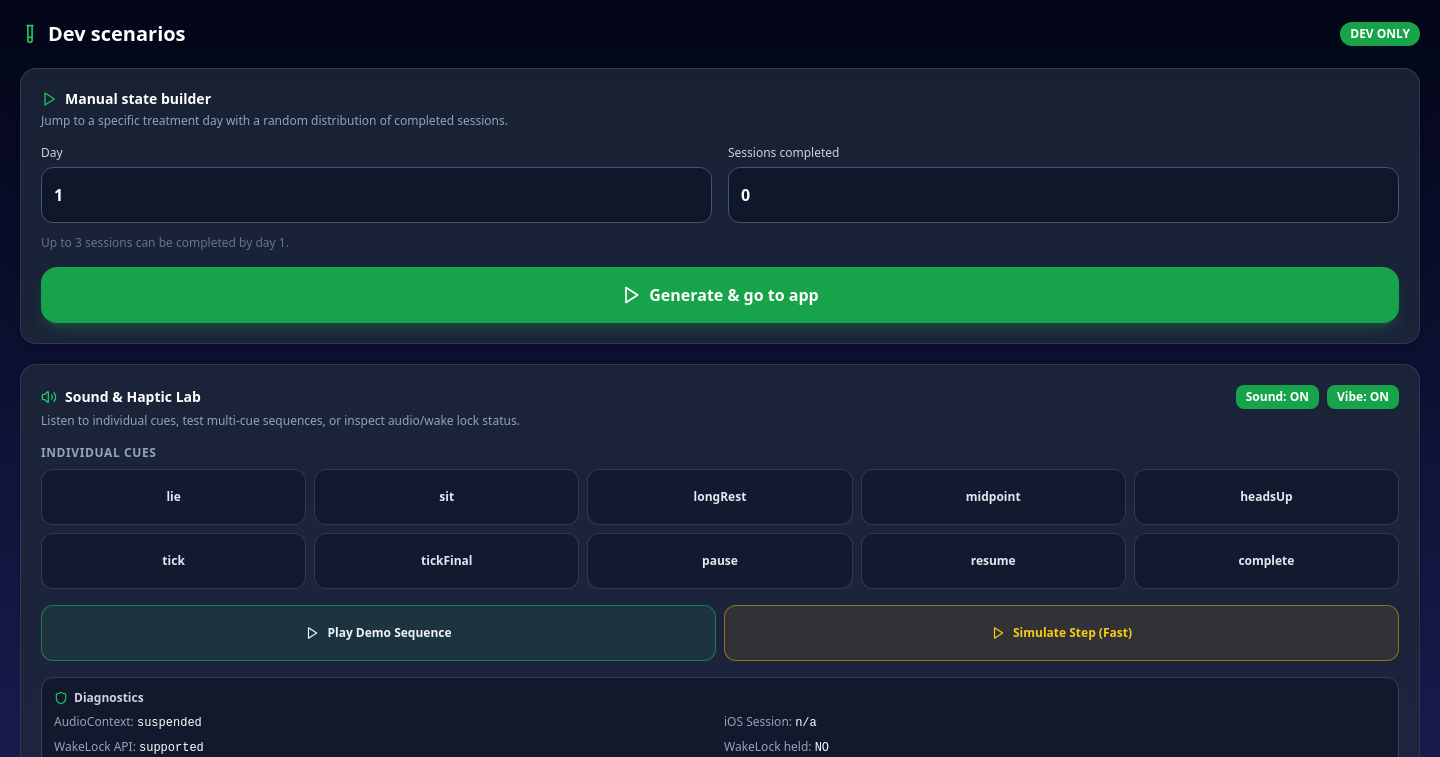
Test: DevScenariosScreen › shows error when day is out of bounds or sessions are negative
Replace the text in the number field labelled "Day" with "0" at x=376, y=195, box [41,167,712,223]
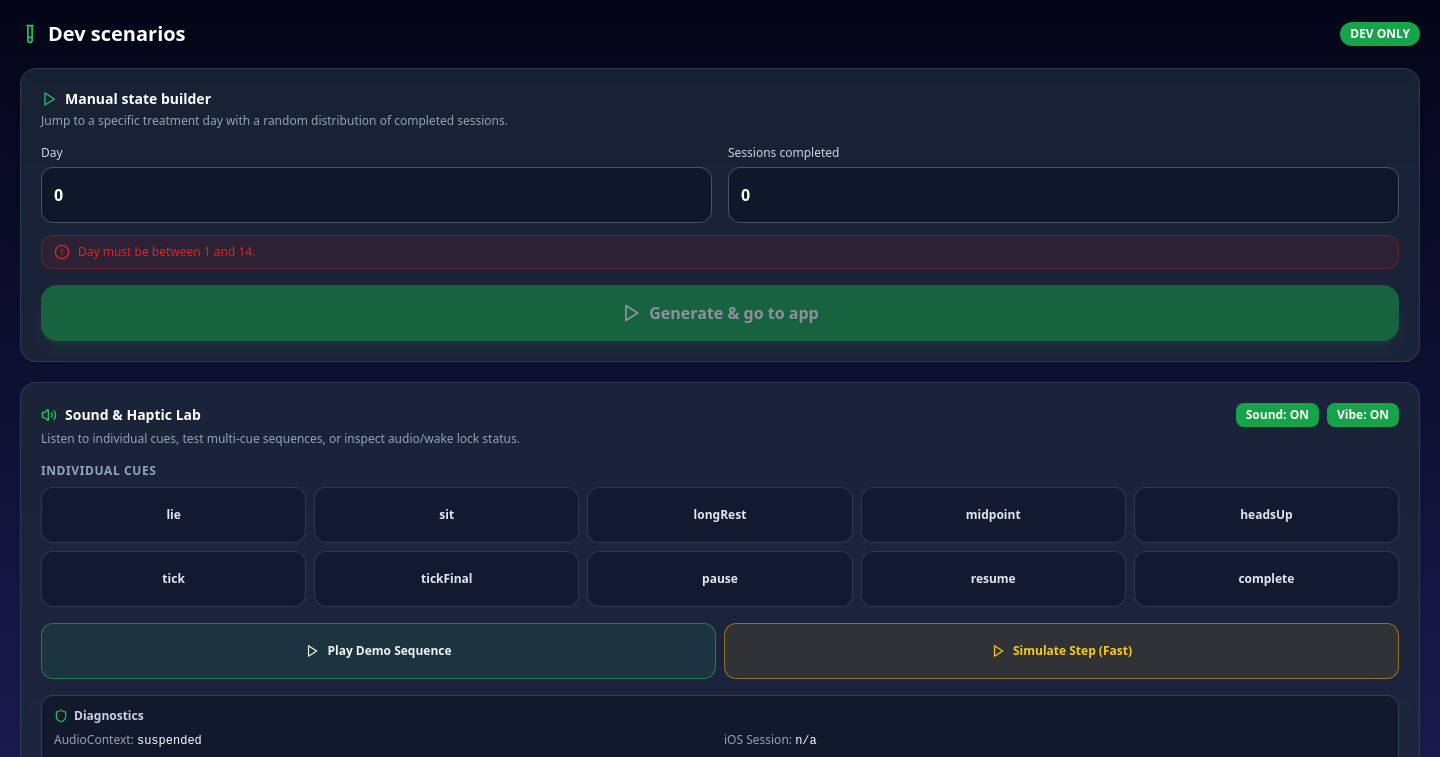
Expected: the text "Day must be between 1 and 14." is shown, [78,244,255,260]
Replace the text in the number field labelled "Day" with "1" at x=376, y=195, box [41,167,712,223]
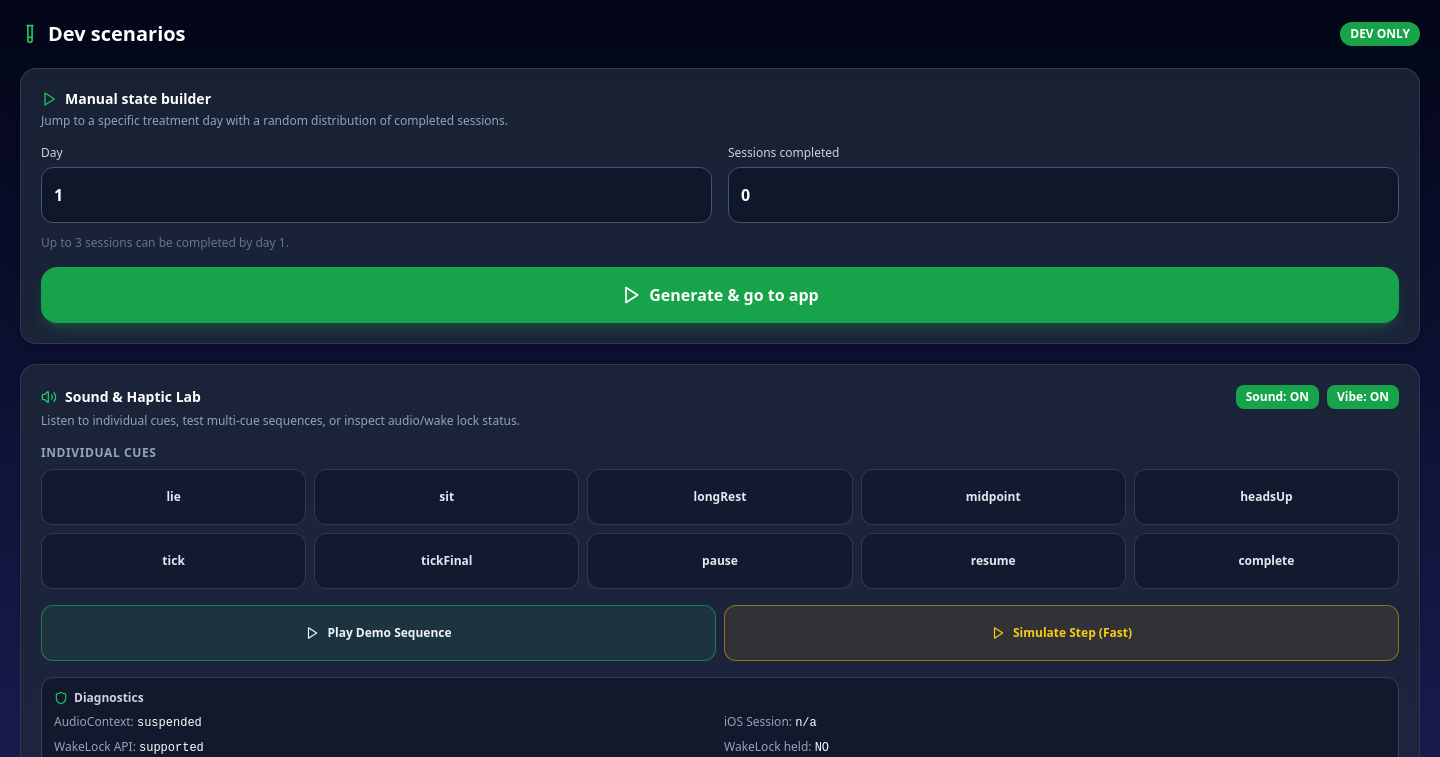
Replace the text in the number field labelled "Sessions completed" with "-1" at x=1064, y=195, box [728,167,1399,223]
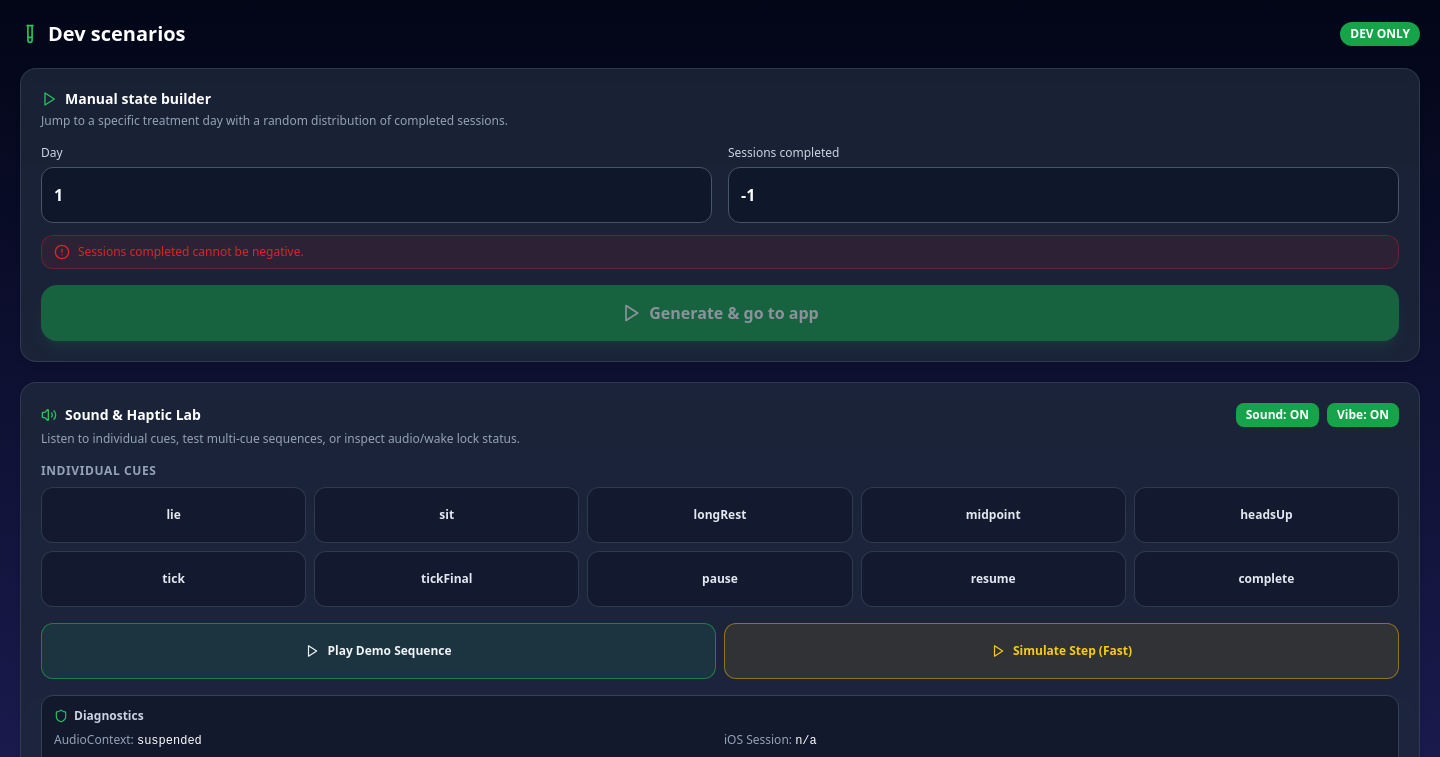
Expected: the text "Sessions completed cannot be negative." is shown, [78,244,304,260]
